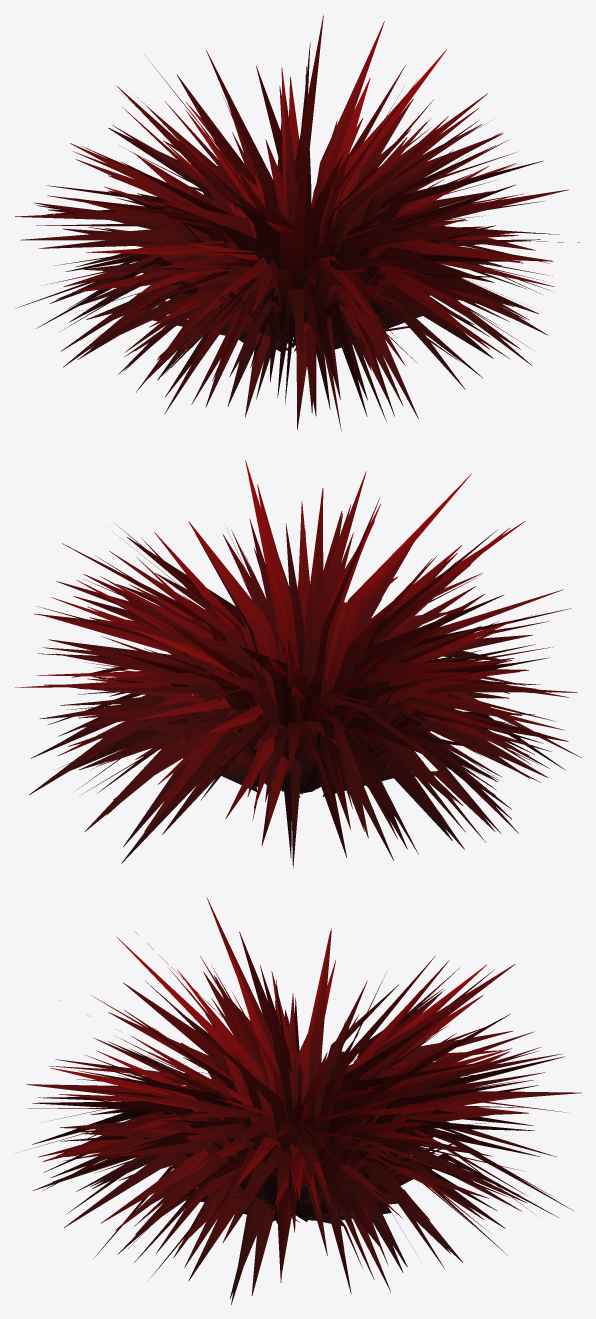
Rendered from alpine_tussock_v01_LOD1.glb.
3 views of the same model, one above another, from view 1: azimuth 30°, elevation 25°; view 2: azimuth 150°, elevation 25°; view 3: azimuth 270°, elevation 25° (orthographic). The views are drawn at different scales.
Visible parts, largest first — view 1: alpine_tussock_v01_LOD1; view 2: alpine_tussock_v01_LOD1; view 3: alpine_tussock_v01_LOD1.
Part boxes in pixels (x1=…): alpine_tussock_v01_LOD1: x1=15, y1=14, x2=579, y2=430; alpine_tussock_v01_LOD1: x1=15, y1=460, x2=581, y2=868; alpine_tussock_v01_LOD1: x1=23, y1=897, x2=581, y2=1304.
Size of the model in its own units: 0.4779 by 0.2433 by 0.4868.
1 material, 1 textured.
